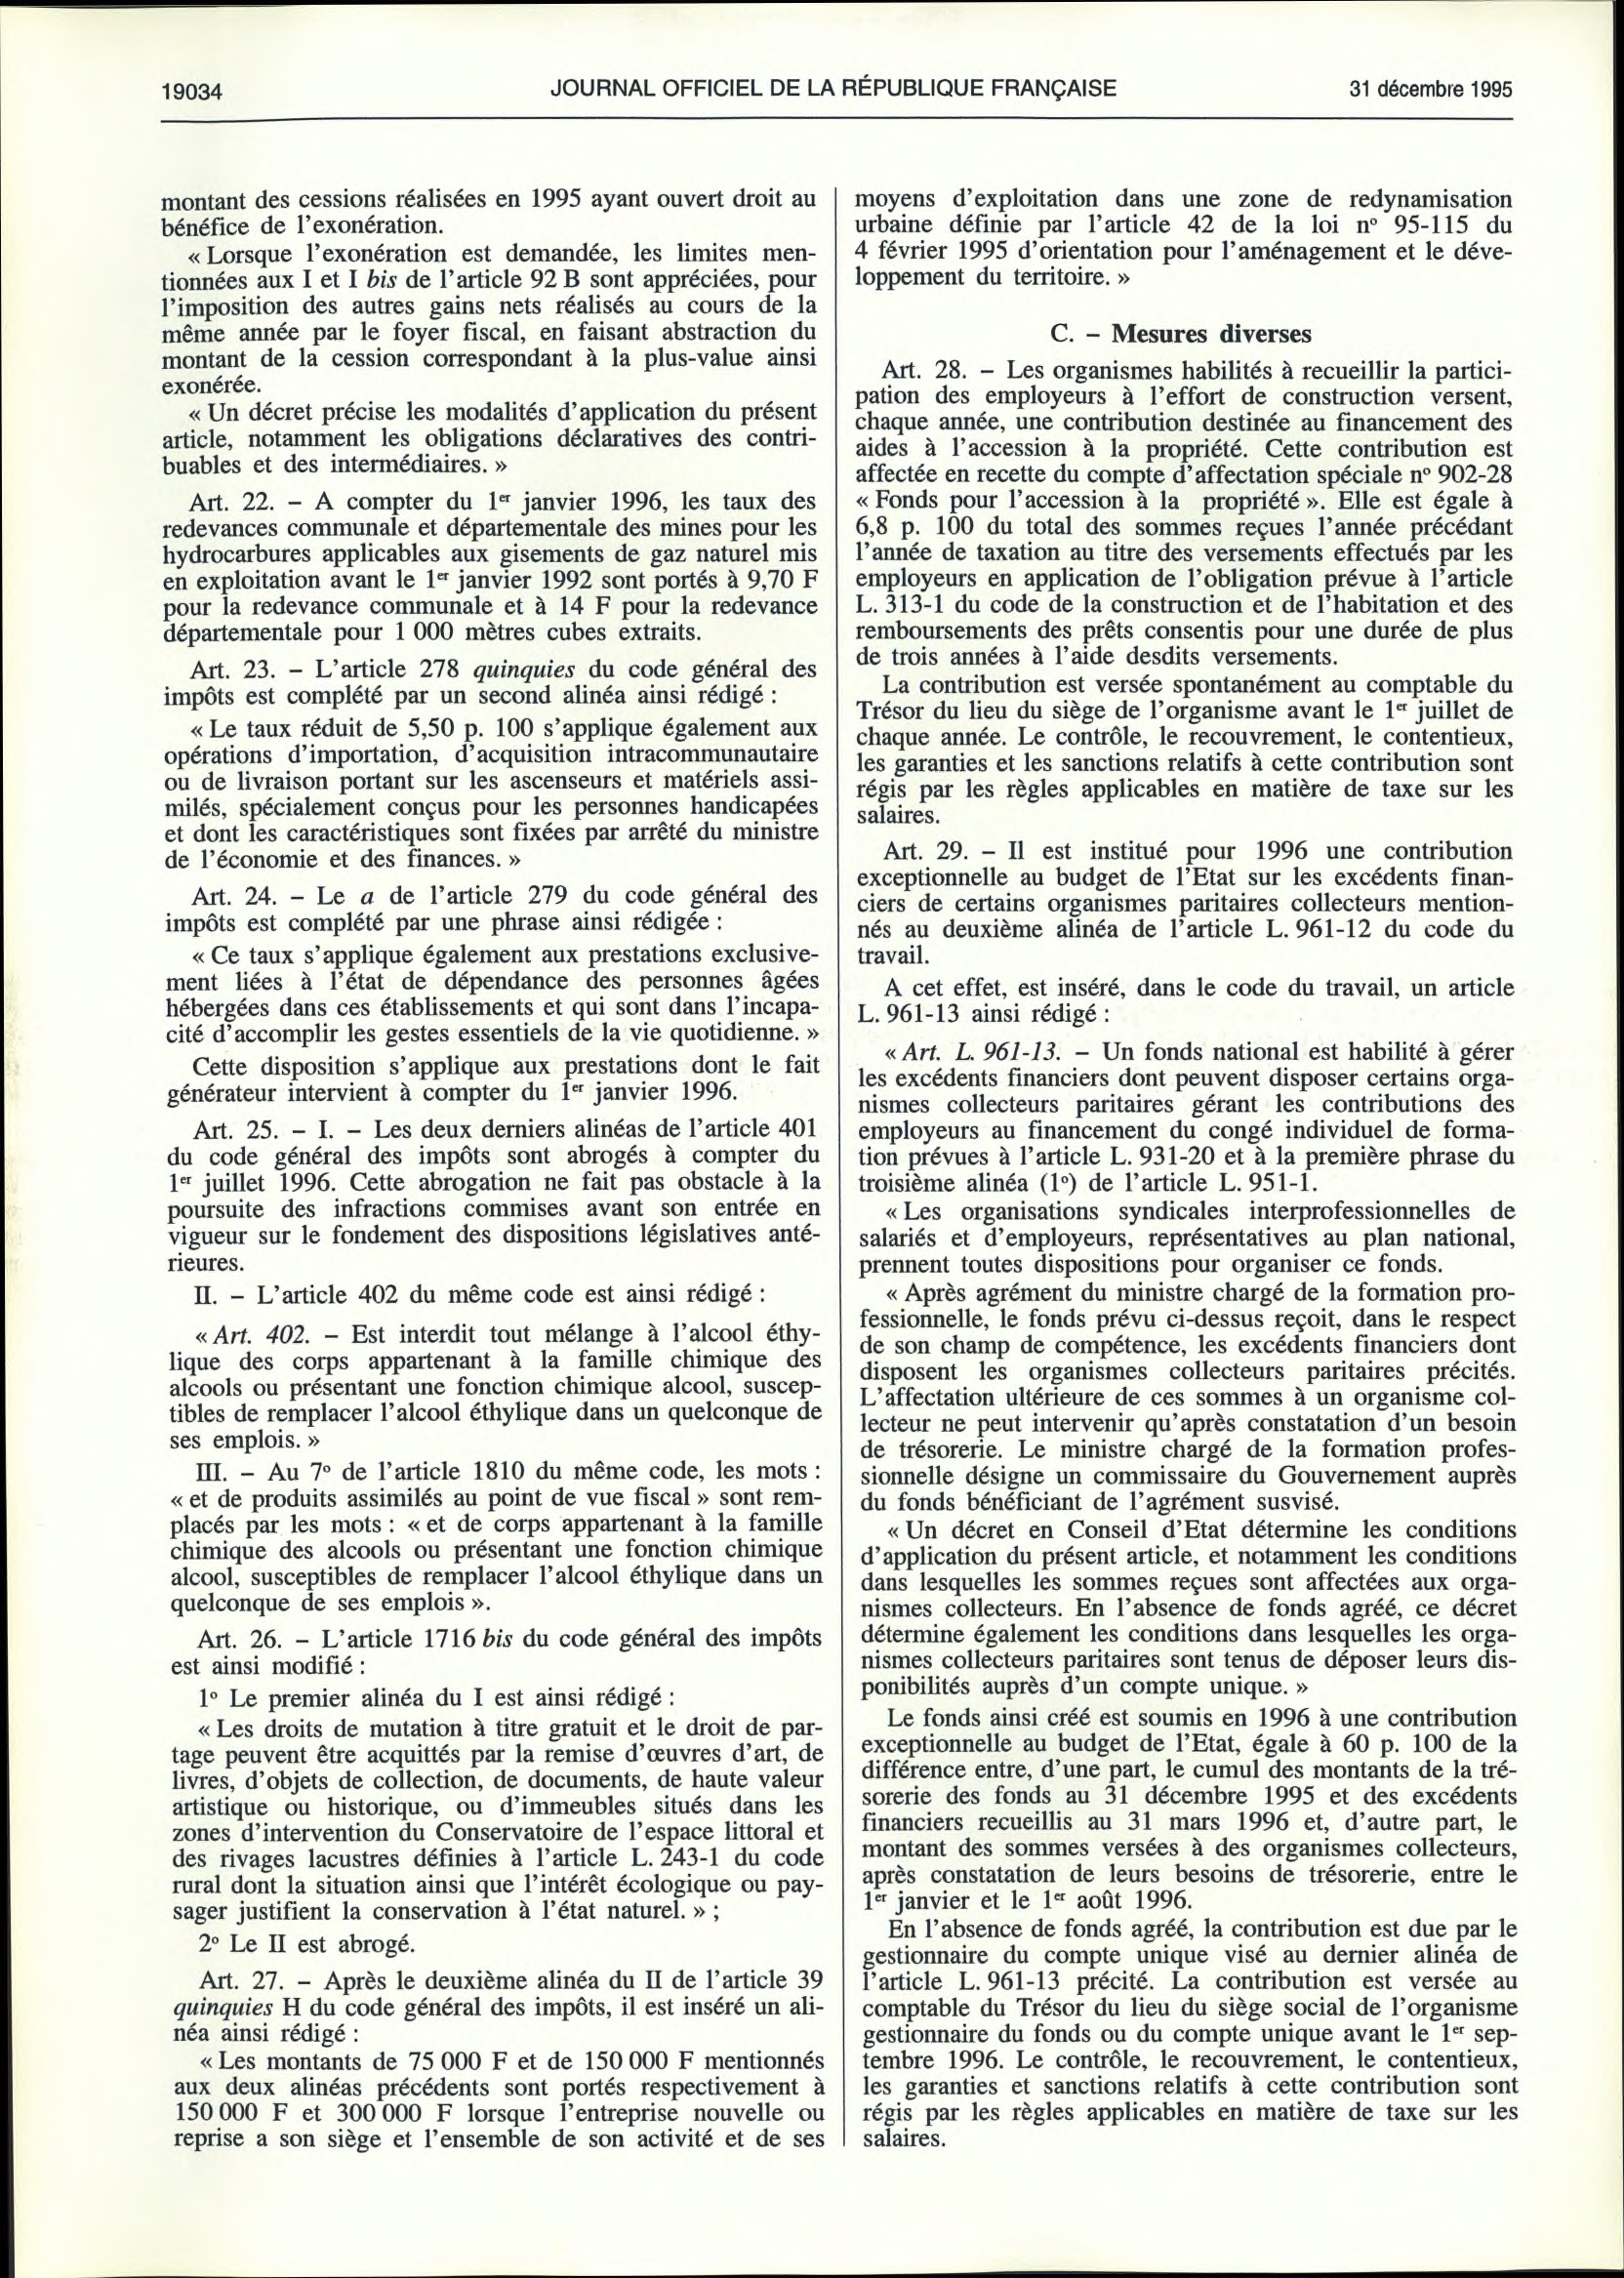MainZone-Continued: (845, 181, 1520, 298), (151, 181, 823, 239)
MainZone-Date: (1340, 69, 1519, 108)
MainZone-Head: (1041, 312, 1319, 352)
MainZone-ListItem: (847, 352, 1520, 670), (161, 1455, 830, 1619), (154, 484, 825, 647), (157, 1112, 828, 1275), (851, 1035, 1522, 1196), (159, 1316, 829, 1452), (849, 834, 1522, 969), (165, 1965, 831, 2048), (155, 879, 826, 940), (155, 652, 825, 712), (163, 1620, 832, 1680), (158, 1275, 810, 1316), (165, 1683, 702, 1716), (167, 1926, 422, 1962)
MainZone-P: (856, 1915, 1525, 2155), (852, 1279, 1523, 1515), (164, 1714, 832, 1927), (854, 1703, 1525, 1914), (855, 1516, 1522, 1701), (155, 712, 826, 875), (153, 237, 825, 397), (851, 671, 1521, 832), (164, 2047, 831, 2160), (155, 940, 828, 1049), (154, 396, 824, 481), (853, 1197, 1522, 1279), (156, 1049, 825, 1111), (850, 972, 1521, 1033)
StampZone: (543, 61, 1124, 106)
TitlePageZone: (156, 71, 230, 110)
